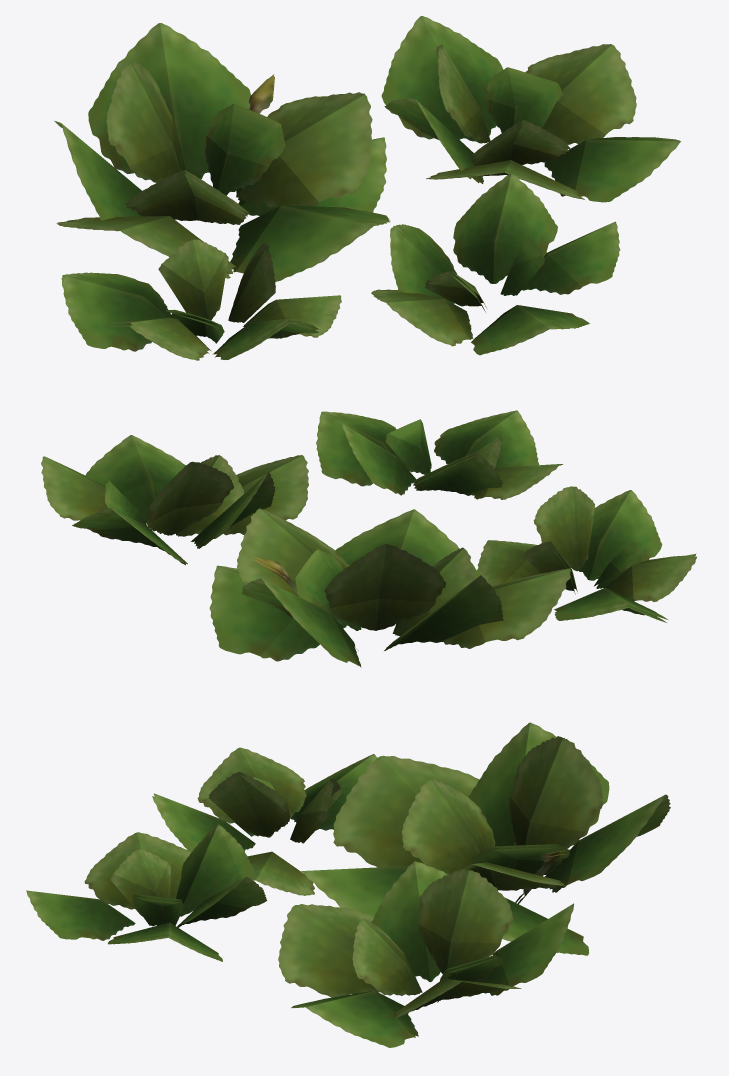
The model's file is d_sd _zhiwu11b_zw.FBX.
3 views of the same model, one above another, from view 1: azimuth 30°, elevation 25°; view 2: azimuth 150°, elevation 25°; view 3: azimuth 270°, elevation 25° (orthographic). The views are drawn at different scales.
Parts seen in each view (by area): view 1: d_sd _zhiwu11b_zw_01A; view 2: d_sd _zhiwu11b_zw_01A; view 3: d_sd _zhiwu11b_zw_01A.
Part boxes in pixels (box(x1,y1,x2,y2)): d_sd _zhiwu11b_zw_01A: box(54, 16, 680, 360); d_sd _zhiwu11b_zw_01A: box(41, 410, 696, 667); d_sd _zhiwu11b_zw_01A: box(26, 722, 670, 1047).
Size of the model in its own units: 73.58 by 18.84 by 68.49.
